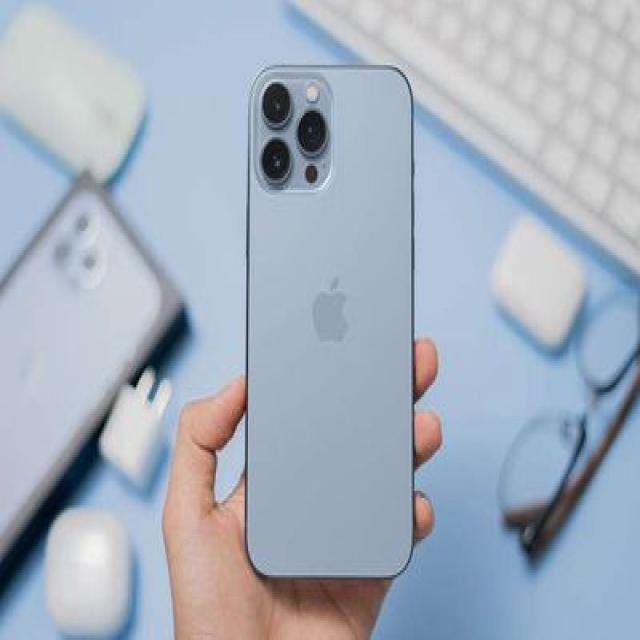gen_12_13: (242, 60, 419, 581)
